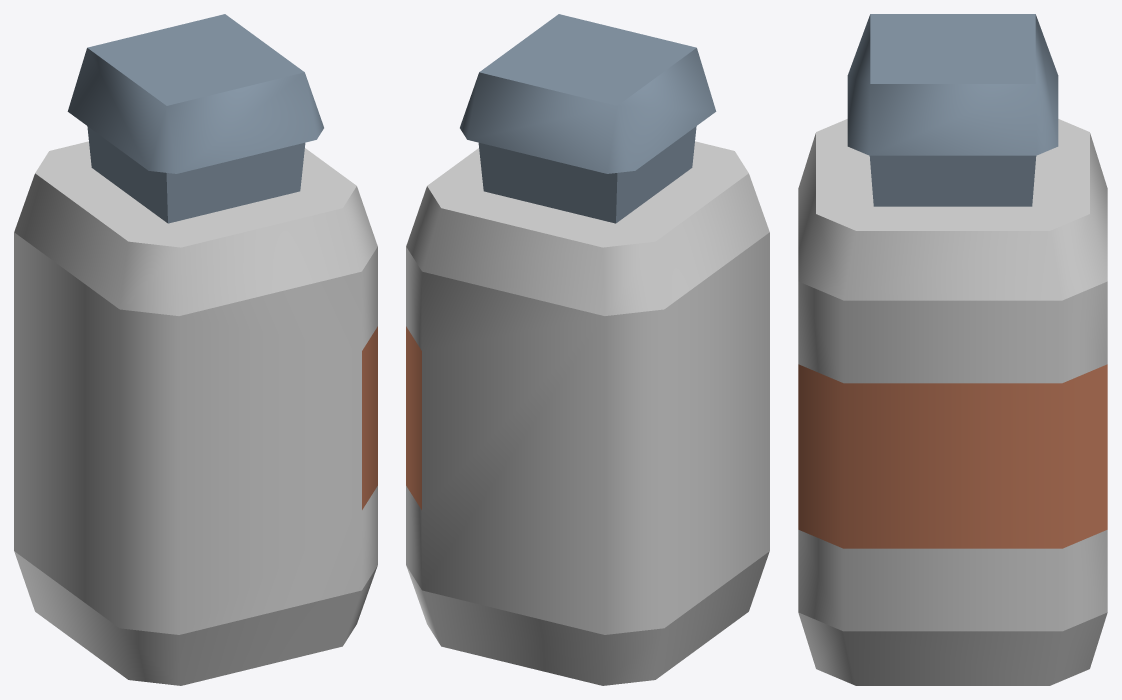
Rendered from shakerPepper.obj.
3 renders of one model, left to right at view 1: azimuth 30°, elevation 25°; view 2: azimuth 150°, elevation 25°; view 3: azimuth 270°, elevation 25°, orthographic. The views are drawn at different scales.
Visible parts, largest first — view 1: shakerPepper; view 2: shakerPepper; view 3: shakerPepper.
Part boxes in pixels (box(x1,y1,x2,y2)): shakerPepper: box(14, 14, 377, 685); shakerPepper: box(406, 14, 769, 685); shakerPepper: box(798, 14, 1107, 685).
Bounding box in the file's own units: 0.0949 × 0.196 × 0.0949.
